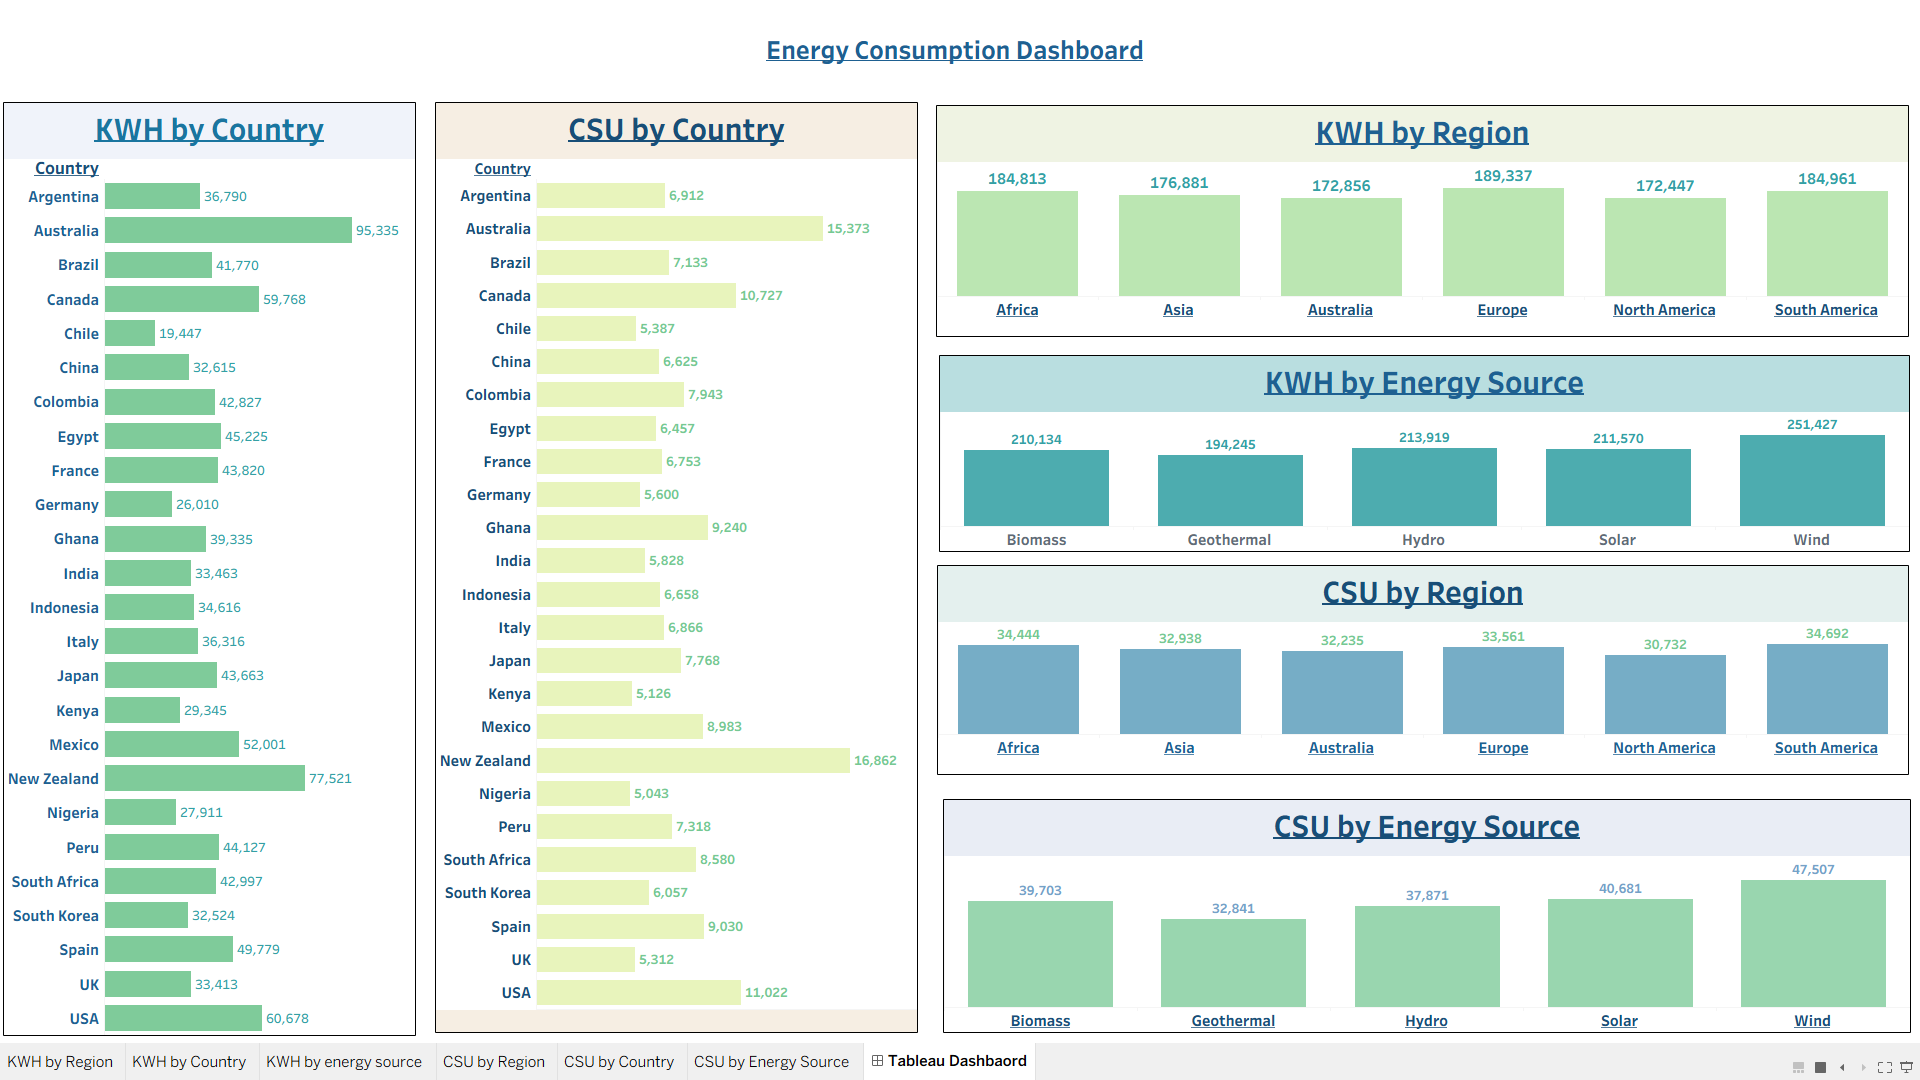

Layout of this report page (visuals, bound fields, positions):
{"tool":"tableau","page":{"name":"Tableau Dashbaord","canvas":[1000,1000],"units":"permille","ordinal":0},"visuals":[{"type":"text","box":[4.8,16.4,985.5,61.1]},{"type":"worksheet","title":"KWH by Country","mark":"Automatic","rows":["COUNTRY"],"cols":["MONTHLY_USAGE_KWH"],"box":[1.8,97.5,214.8,895.4]},{"type":"worksheet","title":"CSU by Country","mark":"Automatic","rows":["COUNTRY"],"cols":["COST_SAVINGS_USD"],"box":[226.3,97.5,251.7,893.1]},{"type":"worksheet","title":"KWH by Region","mark":"Automatic","rows":["MONTHLY_USAGE_KWH"],"cols":["REGION"],"box":[487.6,101.1,506.9,222.1]},{"type":"worksheet","title":"KWH by energy source","mark":"Automatic","rows":["MONTHLY_USAGE_KWH"],"cols":["ENERGY_SOURCE"],"box":[488.8,340.8,505.7,189.2]},{"type":"worksheet","title":"CSU by Region","mark":"Automatic","rows":["COST_SAVINGS_USD"],"cols":["REGION"],"box":[488.2,541.7,506.3,200.9]},{"type":"worksheet","title":"CSU by Energy Source","mark":"Automatic","rows":["COST_SAVINGS_USD"],"cols":["ENERGY_SOURCE"],"box":[491.2,766.2,503.9,224.4]}]}

Visuals, with their boxes on the dashboard's canvas, which has no fixed pixel size, in thousandths of its width and height (x1, y1, x2, y2). These are canvas units, not pixel positions in the 1920x1080 screenshot, which may show the page scaled, cropped or inside an application window:
text: {"x1": 5, "y1": 16, "x2": 990, "y2": 78}
"KWH by Country" worksheet: {"x1": 2, "y1": 98, "x2": 217, "y2": 993}
"CSU by Country" worksheet: {"x1": 226, "y1": 98, "x2": 478, "y2": 991}
"KWH by Region" worksheet: {"x1": 488, "y1": 101, "x2": 994, "y2": 323}
"KWH by energy source" worksheet: {"x1": 489, "y1": 341, "x2": 994, "y2": 530}
"CSU by Region" worksheet: {"x1": 488, "y1": 542, "x2": 994, "y2": 743}
"CSU by Energy Source" worksheet: {"x1": 491, "y1": 766, "x2": 995, "y2": 991}
